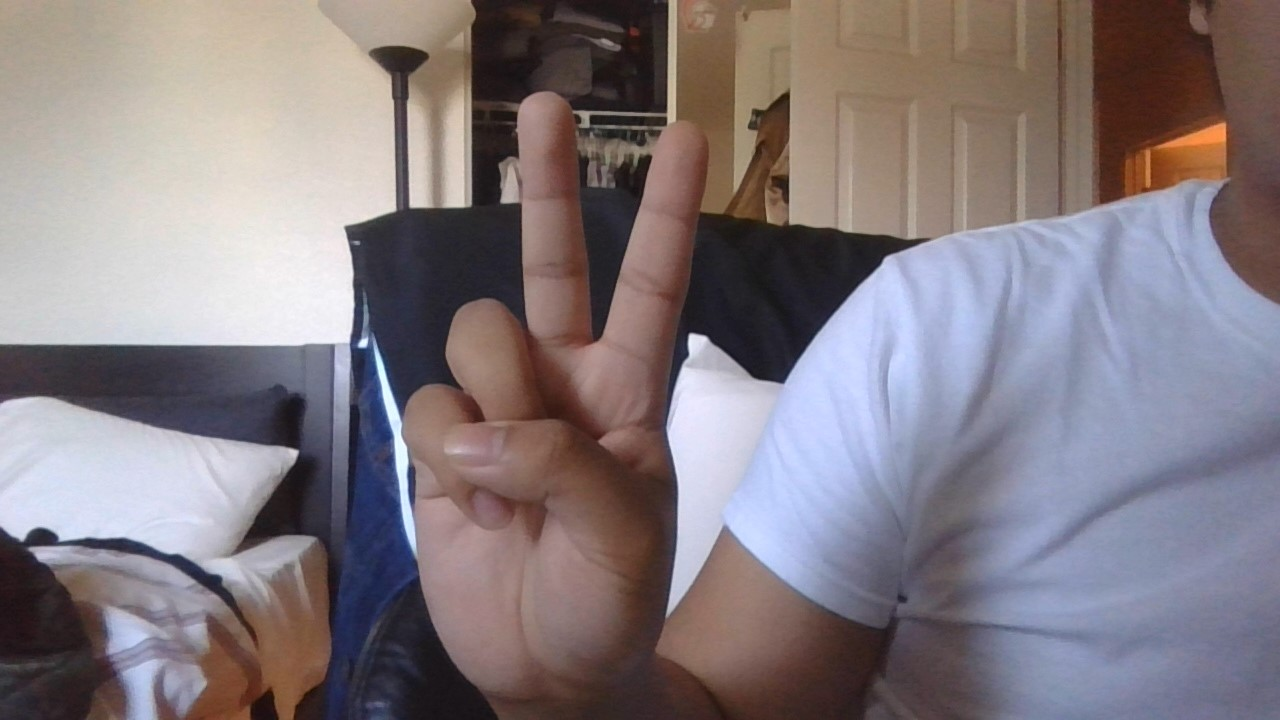v: (375, 78, 730, 691)
